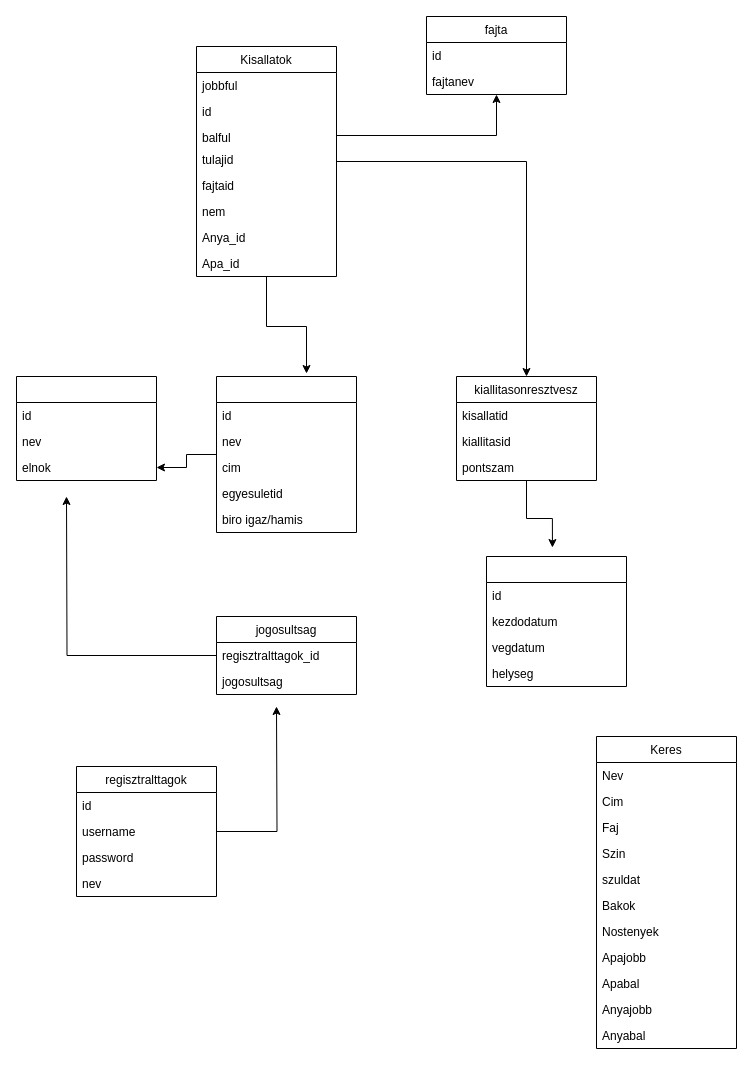
Image size: 753x1065. Some labels were removed from this diagram. Here are the shapes that lost their labels. From the top down, the box of each, then its label:
(16, 376, 156, 480): egyesulet
(216, 376, 356, 532): tulaj
(486, 556, 626, 686): kiallitas
